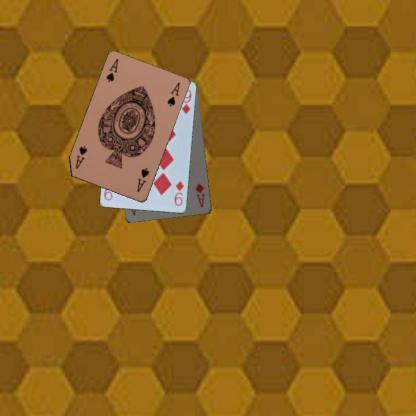9d: (172, 178, 186, 208)
Ad: (192, 180, 206, 210)
As: (134, 165, 150, 194), (104, 57, 119, 84)
